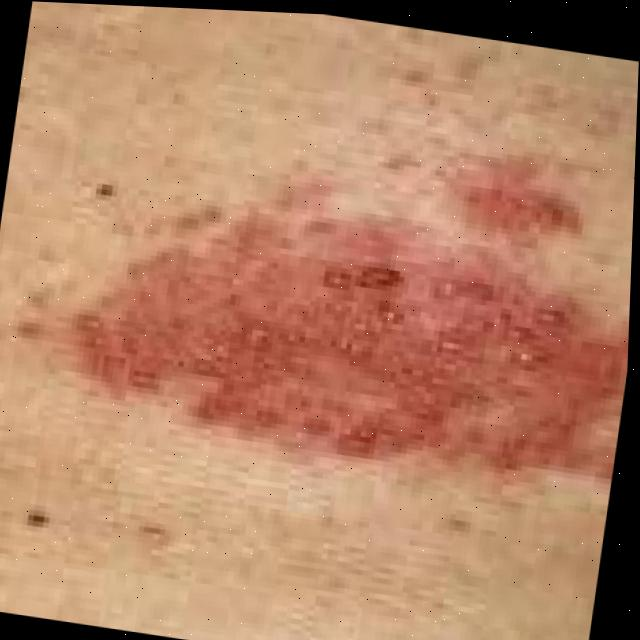Shingles: (52, 90, 637, 498)
